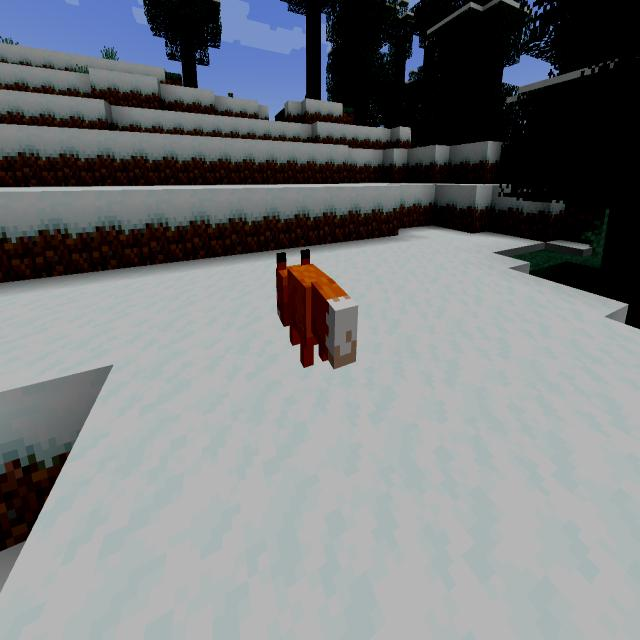Fox: (268, 243, 362, 393)
